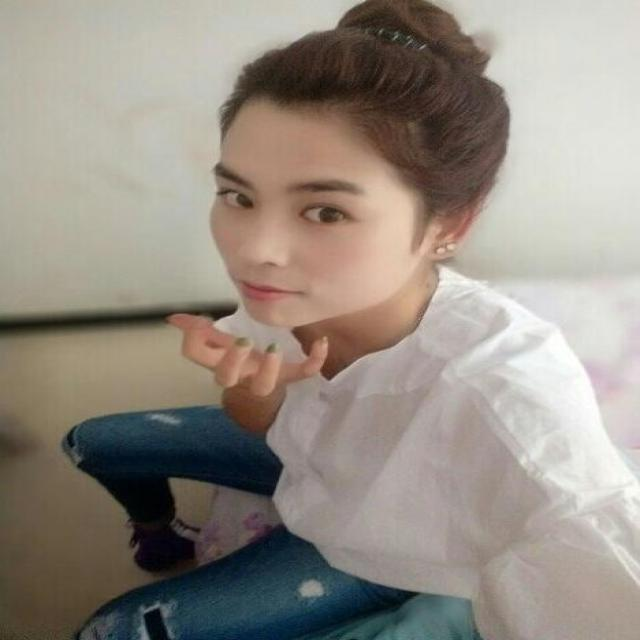short-sleeve-top: (160, 295, 628, 590)
